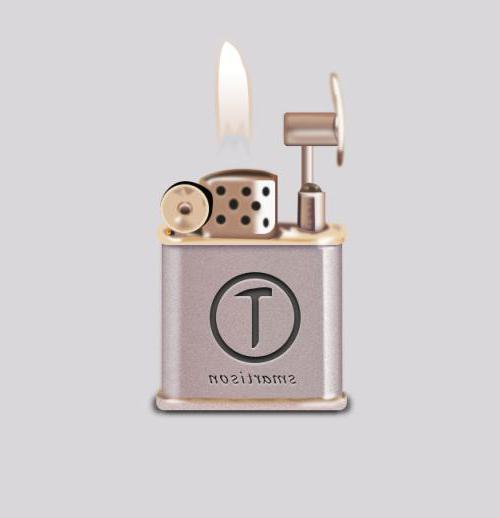fire: (206, 26, 274, 183)
